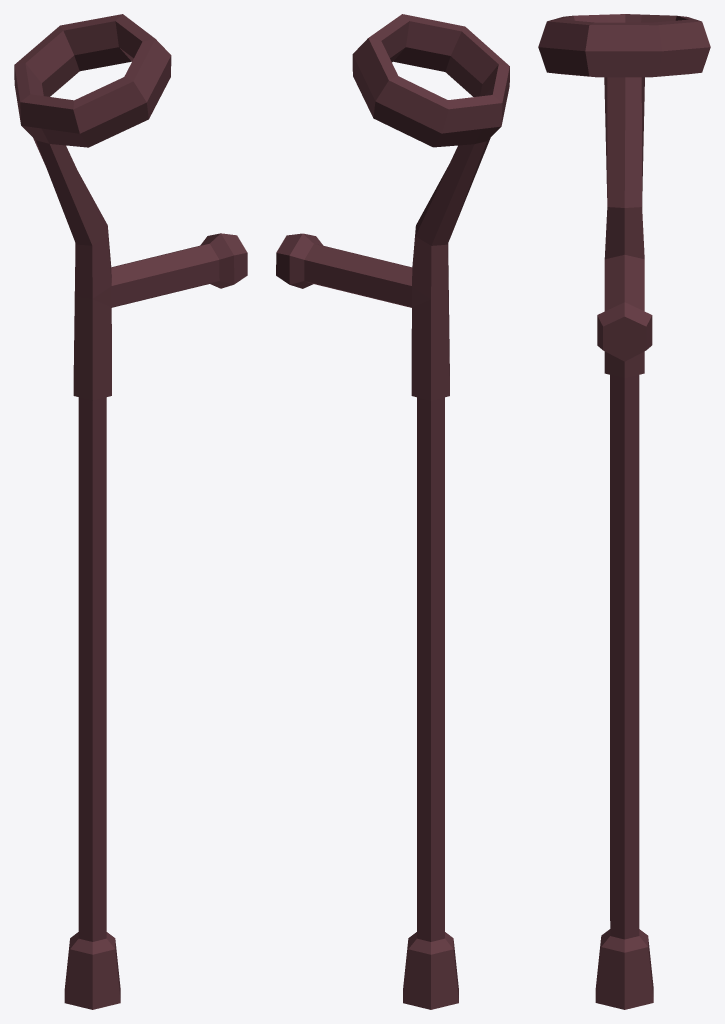
The model's file is crutch-elbow-a.fbx.
3 views of the same model, side by side, from view 1: azimuth 30°, elevation 25°; view 2: azimuth 150°, elevation 25°; view 3: azimuth 270°, elevation 25° (orthographic). The views are drawn at different scales.
Visible parts, largest first — view 1: crutch-elbow-a; view 2: crutch-elbow-a; view 3: crutch-elbow-a.
Boxes of the visible parts, x1,y1,x2,y2 form: crutch-elbow-a: (14, 14, 247, 1009); crutch-elbow-a: (276, 14, 509, 1009); crutch-elbow-a: (538, 14, 710, 1009).
Bounding box in the file's own units: 0.2899 × 1.23 × 0.1931.
